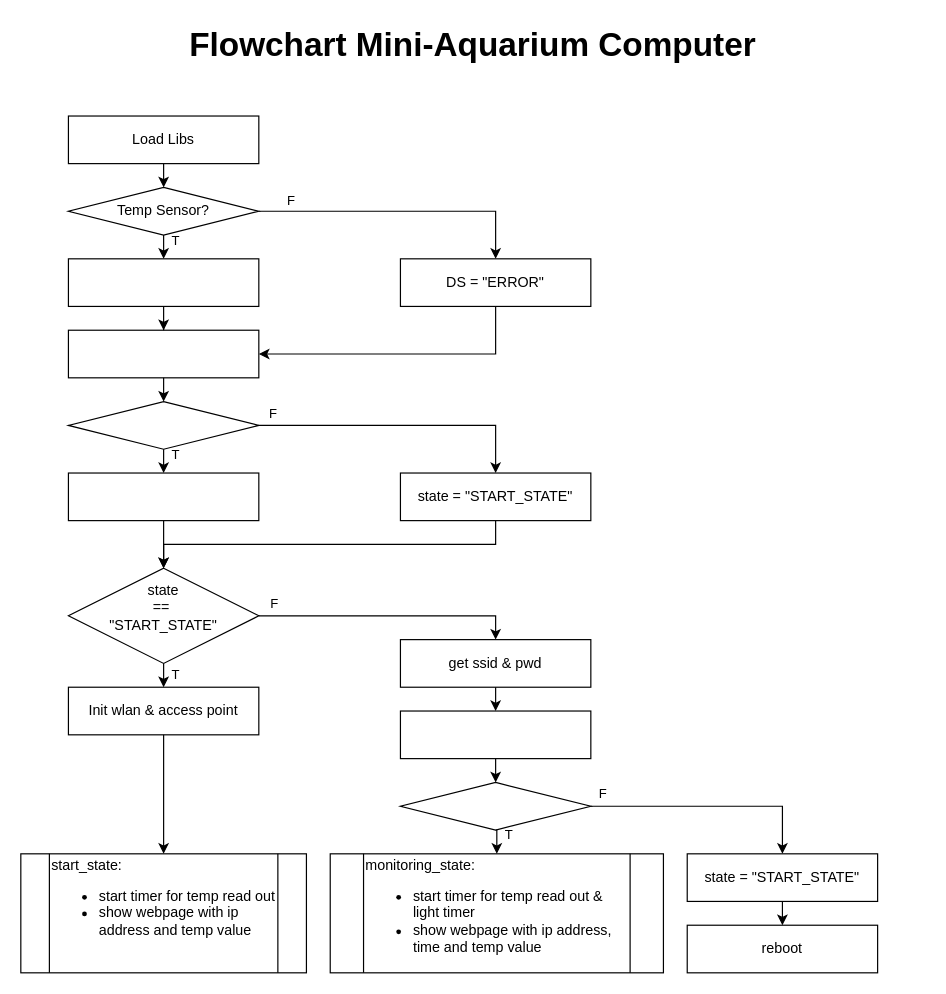
Image size: 946x994. Some labels were removed from this diagram. Each missing label, with the box of its shape:
connection?: (399, 781, 591, 830)
Get state: (67, 472, 259, 521)
Init LCD: (67, 329, 259, 378)
Init Temp Sensor: (67, 258, 259, 306)
Init wlan: (399, 710, 591, 759)
state.txt: (67, 400, 259, 449)
